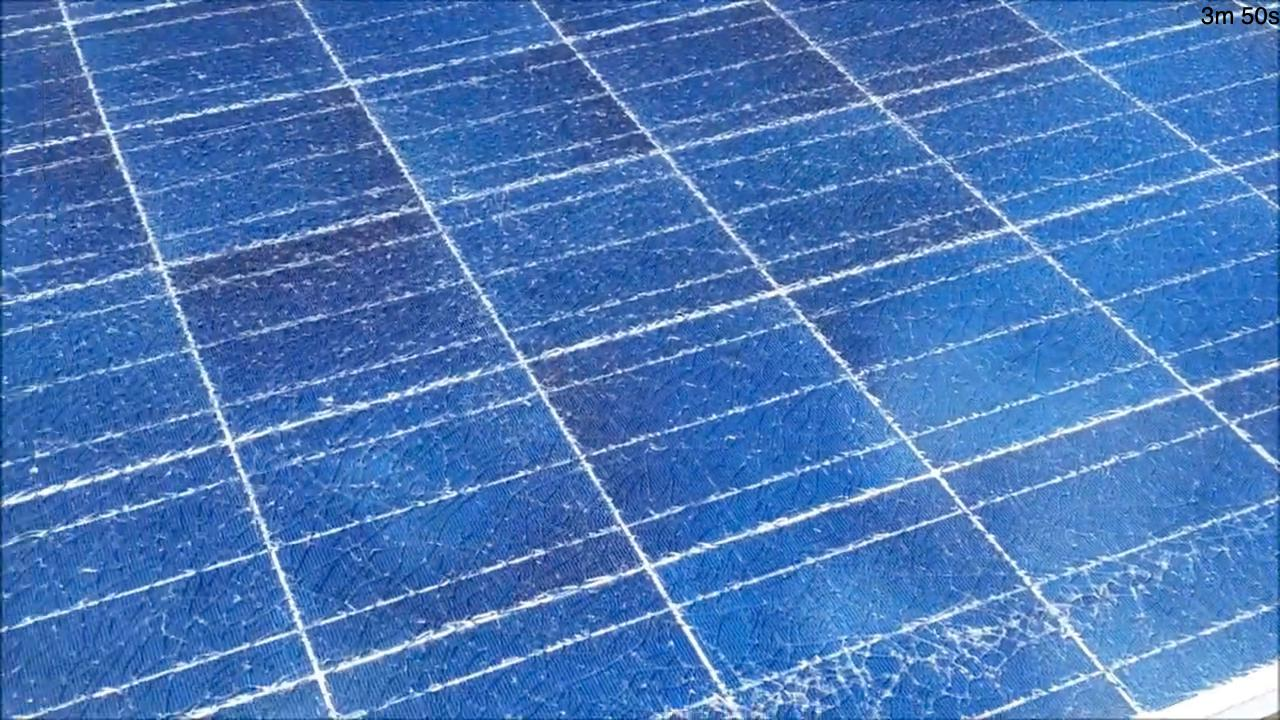Crack: (668, 516, 1241, 714), (0, 195, 361, 473), (954, 208, 1263, 497), (661, 205, 948, 509), (309, 483, 654, 720), (373, 193, 653, 472), (4, 483, 305, 720), (1, 0, 349, 195), (649, 5, 968, 193), (356, 9, 625, 189), (986, 12, 1184, 187)
